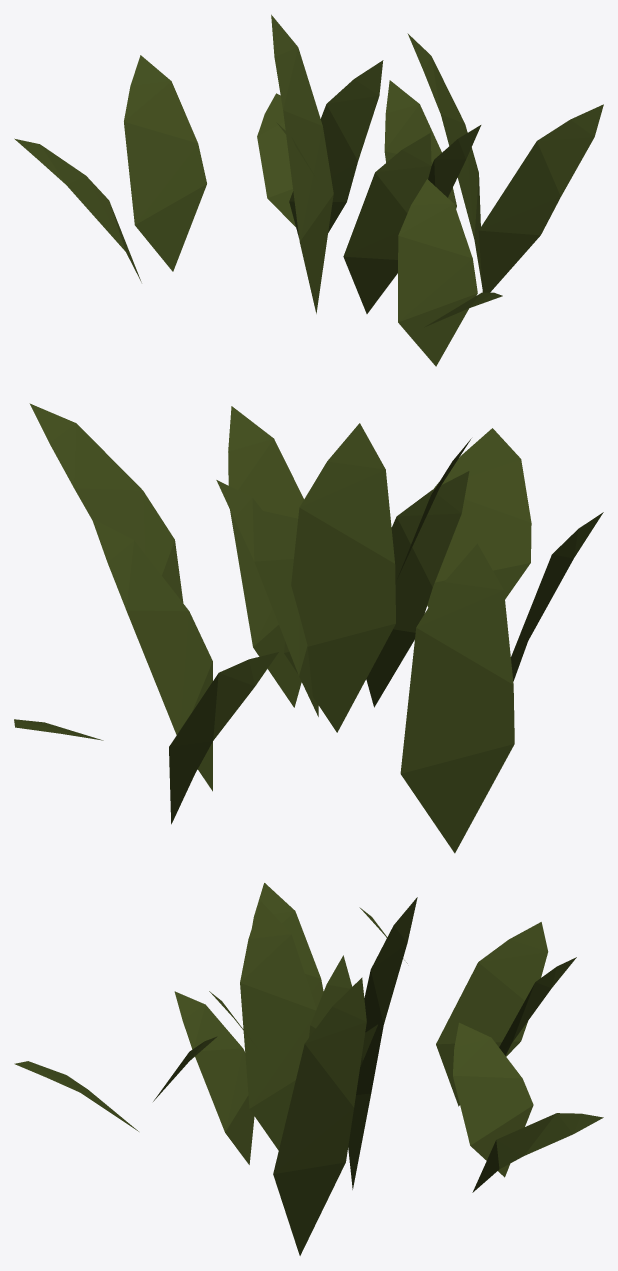
The model's file is grass-thick-a.gltf.
3 views of the same model, one above another, from view 1: azimuth 30°, elevation 25°; view 2: azimuth 150°, elevation 25°; view 3: azimuth 270°, elevation 25° (orthographic). The views are drawn at different scales.
Parts seen in each view (by area): view 1: grass-thick-a; view 2: grass-thick-a; view 3: grass-thick-a.
Part boxes in pixels (x1,y1,x2,y2): grass-thick-a: (14,14,603,366); grass-thick-a: (14,403,603,853); grass-thick-a: (14,883,603,1255).
Size of the model in its own units: 0.00624 by 0.0037 by 0.00689.
